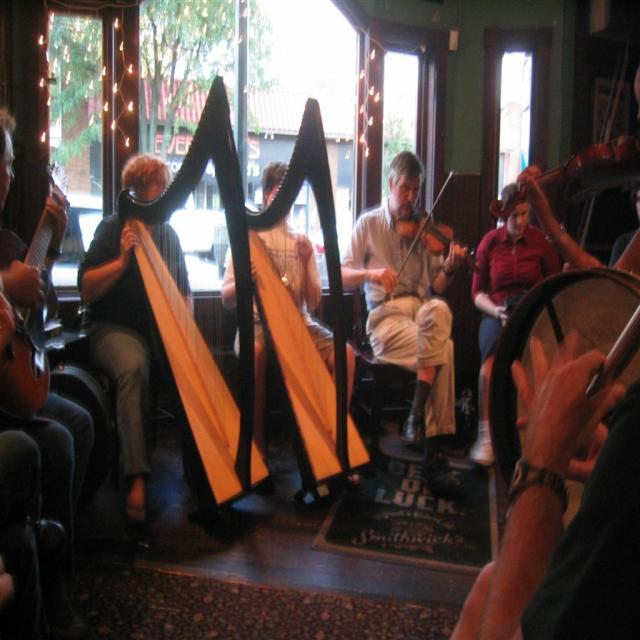guitar: (0, 156, 67, 412)
harp: (116, 75, 272, 499), (240, 95, 376, 487)
violin: (485, 135, 640, 223), (390, 200, 480, 269)
